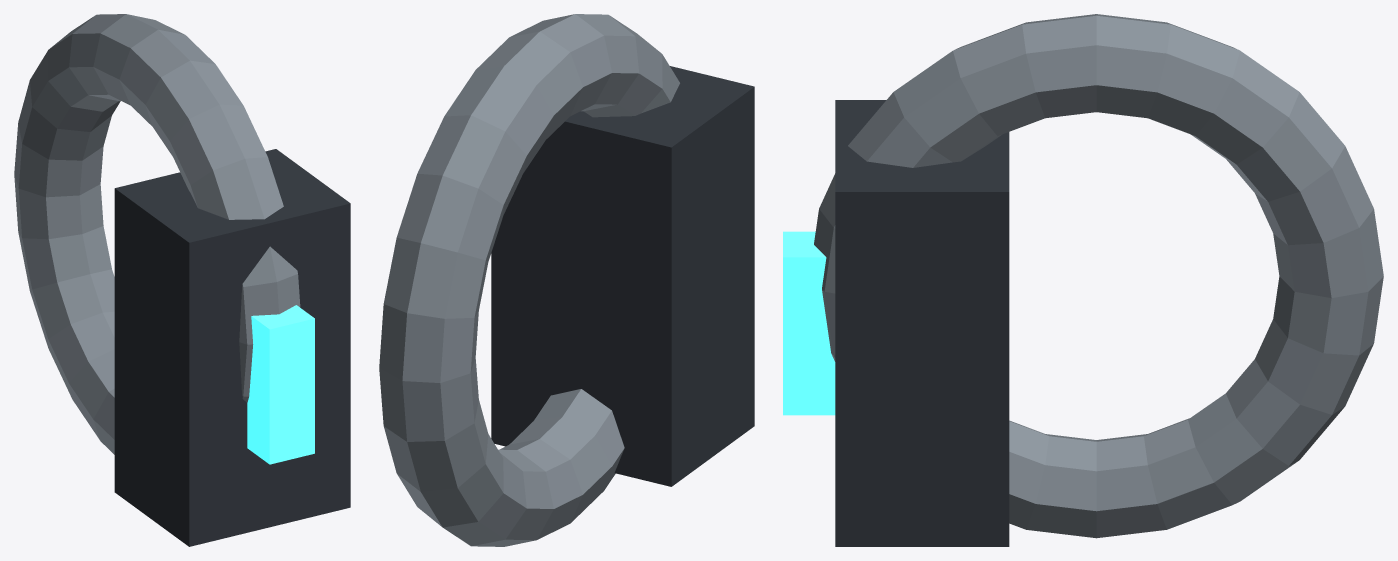
Rendered from ear_comms.glb.
The picture shows the model from 3 angles, left to right: view 1: azimuth 30°, elevation 25°; view 2: azimuth 150°, elevation 25°; view 3: azimuth 270°, elevation 25°; orthographic projection. The views are drawn at different scales.
Visible parts, largest first — view 1: part_001, part_000, part_002; view 2: part_001, part_000; view 3: part_000, part_001, part_002.
Boxes of the visible parts, x1,y1,x2,y2 form: part_001: [114, 149, 350, 546]; part_000: [14, 14, 300, 454]; part_002: [247, 305, 314, 464]; part_001: [491, 66, 754, 486]; part_000: [379, 14, 679, 546]; part_000: [814, 14, 1383, 538]; part_001: [835, 100, 1009, 546]; part_002: [783, 231, 835, 415].
Bounding box in the file's own units: 0.025 × 0.066 × 0.069.
